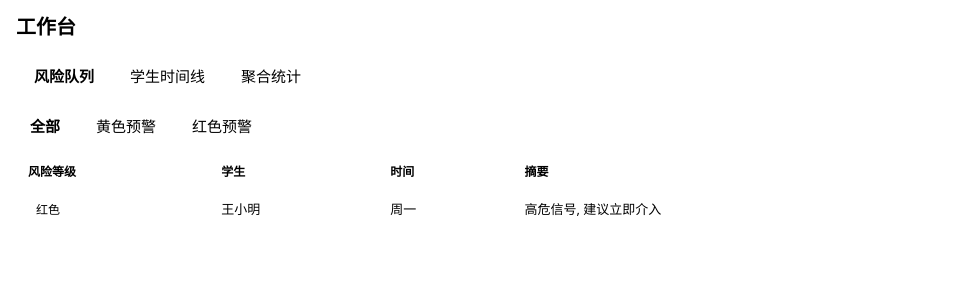
Scenario: WorkbenchView (咨询员工作台) › 行点击展开该学生时间线: 调时间线端点 (UUID) 就地渲染事件列表, 再点收起
Expected: the text "王小明" is shown, 209,190 -> 378,229
Click the text "王小明" at x=241, y=209, box 16,190 -> 944,229
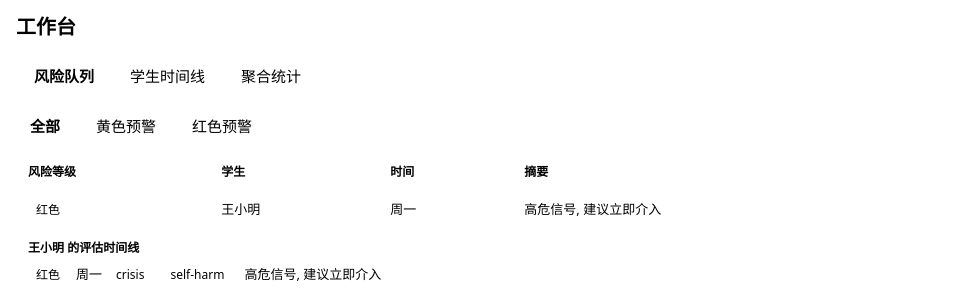
Expected: the text "王小明 的评估时间线" is shown, 28,239 -> 139,256
Expected: the text "crisis" is shown, 116,266 -> 144,283
Expected: the text "self-harm" is shown, 170,266 -> 224,283
Click the text "王小明" at x=241, y=209, box 16,190 -> 944,229
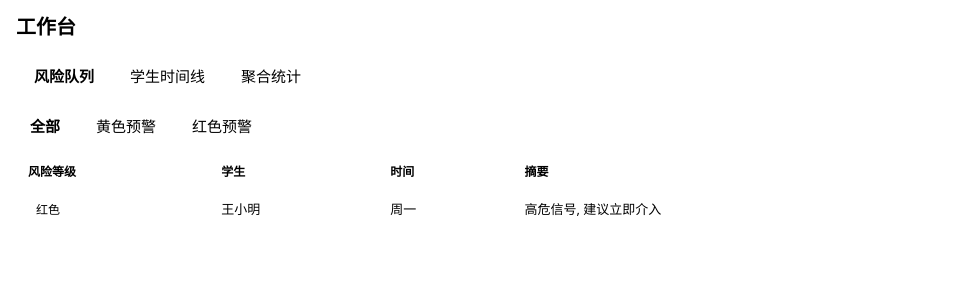
Expected: the text "王小明 的评估时间线" is gone
